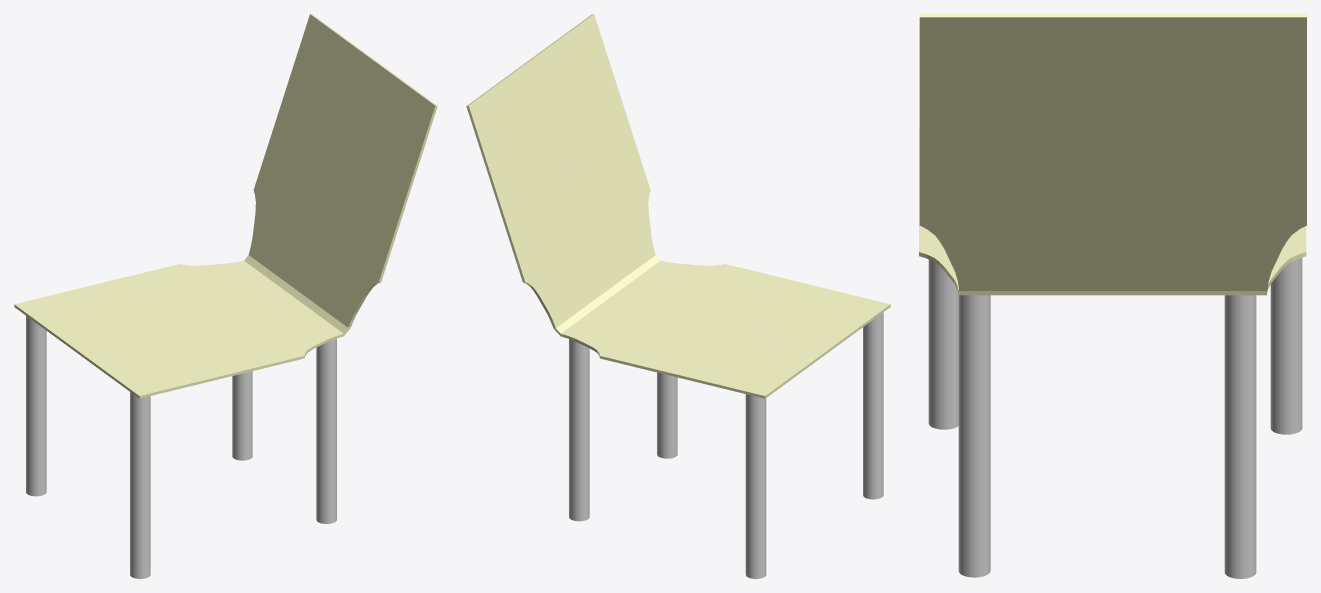
File: chaise CIE.fbx
The picture shows the model from 3 angles, left to right: view 1: azimuth 30°, elevation 25°; view 2: azimuth 150°, elevation 25°; view 3: azimuth 270°, elevation 25°; orthographic projection. The views are drawn at different scales.
Visible parts, largest first — view 1: Plane.001, pieds; view 2: Plane.001, pieds; view 3: Plane.001, pieds.
Part boxes in pixels (x1=…): Plane.001: x1=14, y1=14, x2=437, y2=398; pieds: x1=26, y1=316, x2=336, y2=578; Plane.001: x1=466, y1=14, x2=890, y2=398; pieds: x1=569, y1=312, x2=883, y2=578; Plane.001: x1=919, y1=14, x2=1306, y2=295; pieds: x1=928, y1=257, x2=1302, y2=578.
Size of the model in its own units: 462 by 599 by 337.
